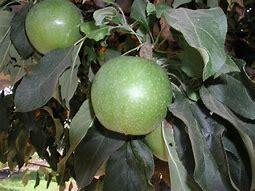apple: (90, 52, 173, 139), (20, 1, 88, 51)
